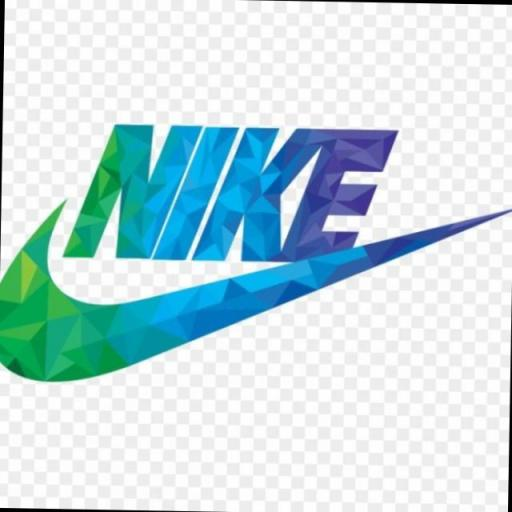Nike: (0, 190, 512, 392), (64, 120, 398, 266)
